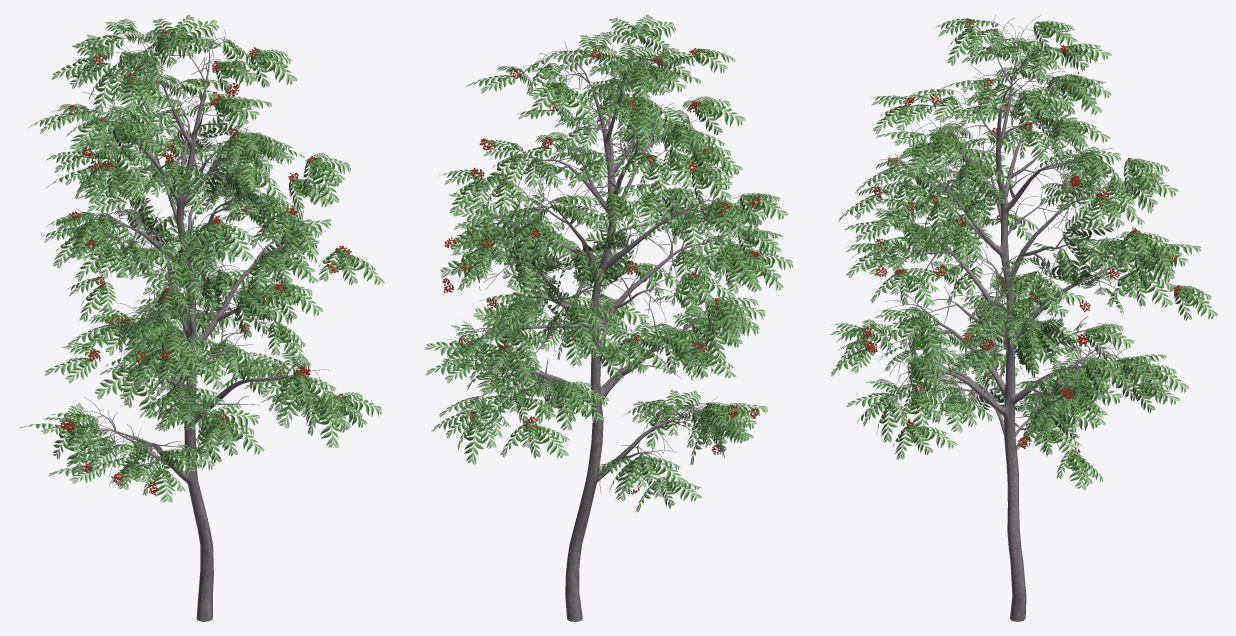
File: 黃連木.glb
3 views of the same model, side by side, from view 1: azimuth 30°, elevation 25°; view 2: azimuth 150°, elevation 25°; view 3: azimuth 270°, elevation 25° (orthographic). The views are drawn at different scales.
Visible parts, largest first — view 1: Object001Mesh, rowan_07Mesh, Plane124Mesh, Plane080Mesh, Plane148Mesh, Plane079Mesh, Plane086Mesh, Plane070Mesh, Plane033Mesh, Plane142Mesh, Plane153Mesh, Plane064Mesh (+81 smaller); view 2: Object001Mesh, rowan_07Mesh, Plane112Mesh, Plane115Mesh, Plane147Mesh, Plane008Mesh, Plane071Mesh, Plane036Mesh, Plane021Mesh, Plane016Mesh, Plane038Mesh, Plane059Mesh (+87 smaller); view 3: Object001Mesh, rowan_07Mesh, Plane043Mesh, Plane129Mesh, Plane116Mesh, Plane092Mesh, Plane057Mesh, Plane046Mesh, Plane048Mesh, Plane028Mesh, Plane136Mesh, Plane022Mesh (+70 smaller).
Part boxes in pixels (x1,y1,x2,y2): Object001Mesh: [72, 25, 328, 621]; rowan_07Mesh: [60, 26, 351, 494]; Plane124Mesh: [95, 364, 162, 417]; Plane080Mesh: [249, 211, 321, 256]; Plane148Mesh: [184, 218, 255, 261]; Plane079Mesh: [303, 153, 350, 203]; Plane086Mesh: [274, 372, 342, 412]; Plane070Mesh: [112, 112, 161, 161]; Plane033Mesh: [234, 289, 296, 339]; Plane142Mesh: [193, 416, 263, 459]; Plane153Mesh: [67, 62, 125, 115]; Plane064Mesh: [110, 74, 174, 113]; Object001Mesh: [458, 28, 741, 621]; rowan_07Mesh: [442, 48, 760, 494]; Plane112Mesh: [603, 15, 675, 51]; Plane115Mesh: [449, 193, 495, 256]; Plane147Mesh: [671, 272, 735, 315]; Plane008Mesh: [621, 453, 687, 493]; Plane071Mesh: [529, 81, 596, 125]; Plane036Mesh: [696, 247, 765, 290]; Plane021Mesh: [431, 411, 496, 464]; Plane016Mesh: [500, 421, 569, 458]; Plane038Mesh: [469, 346, 541, 386]; Plane059Mesh: [607, 155, 680, 198]; Object001Mesh: [880, 14, 1156, 621]; rowan_07Mesh: [860, 19, 1182, 457]; Plane043Mesh: [881, 316, 951, 364]; Plane129Mesh: [1011, 87, 1073, 136]; Plane116Mesh: [998, 271, 1068, 315]; Plane092Mesh: [1107, 269, 1173, 307]; Plane057Mesh: [1112, 229, 1179, 269]; Plane046Mesh: [907, 350, 957, 396]; Plane048Mesh: [901, 389, 954, 432]; Plane028Mesh: [1017, 319, 1079, 369]; Plane136Mesh: [870, 270, 938, 306]; Plane022Mesh: [1082, 354, 1133, 394].
Bounding box in the file's own units: 0.18 × 0.311 × 0.1952.
Materials: 154 (154 with a texture image).
